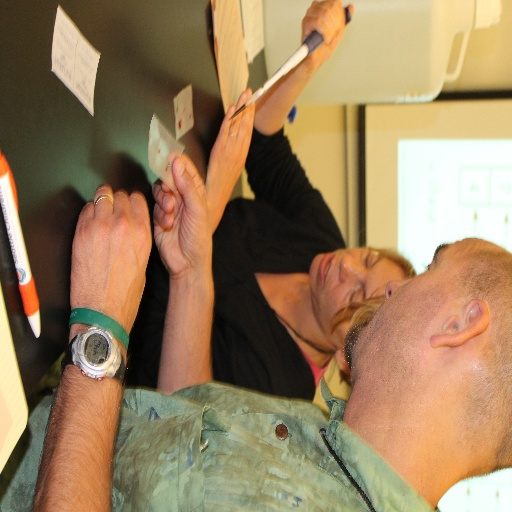hand: (62, 179, 149, 373), (150, 150, 210, 281), (205, 86, 251, 226), (301, 0, 354, 70)
